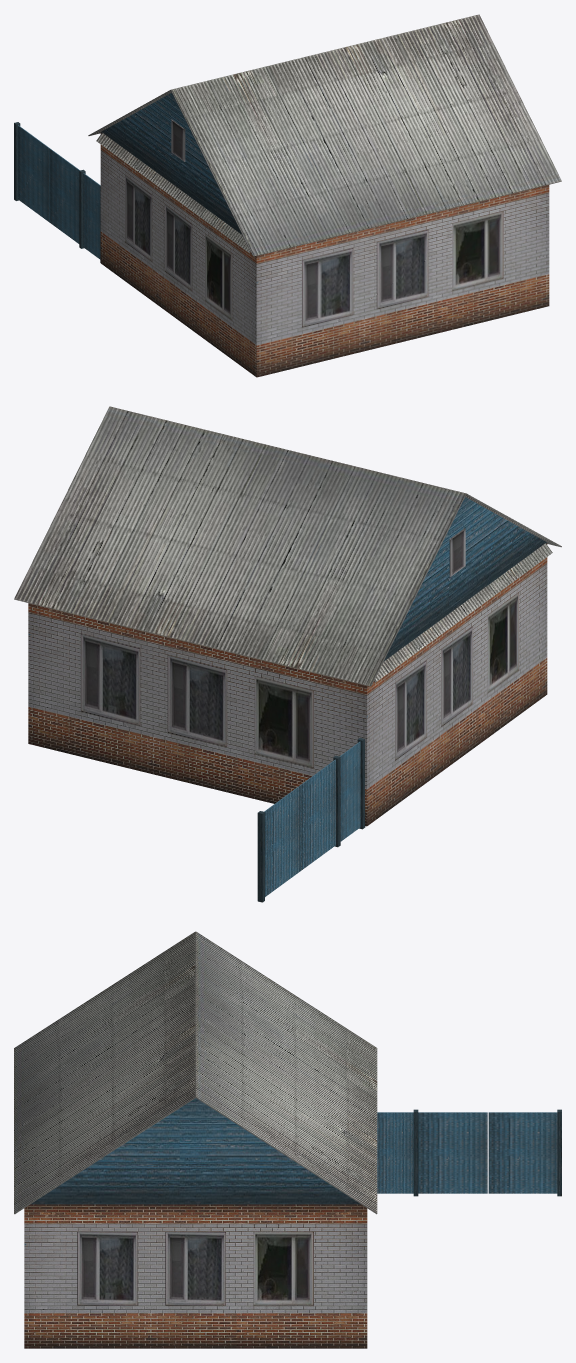
The model's file is r254_isilkul_dom2.FBX.
3 views of the same model, one above another, from view 1: azimuth 30°, elevation 25°; view 2: azimuth 150°, elevation 25°; view 3: azimuth 270°, elevation 25° (orthographic). The views are drawn at different scales.
Parts seen in each view (by area): view 1: r254_isilkul_dom2; view 2: r254_isilkul_dom2; view 3: r254_isilkul_dom2.
Part boxes in pixels (x1,y1,x2,y2): r254_isilkul_dom2: (14,14,561,377); r254_isilkul_dom2: (14,406,561,902); r254_isilkul_dom2: (14,931,561,1348).
Bounding box in the file's own units: 7.87 × 11.01 × 5.71.
